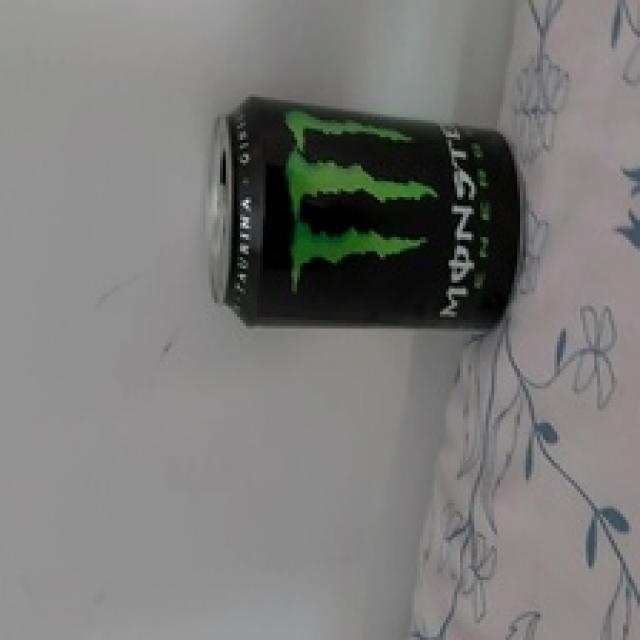recyclable: (208, 91, 526, 334)
